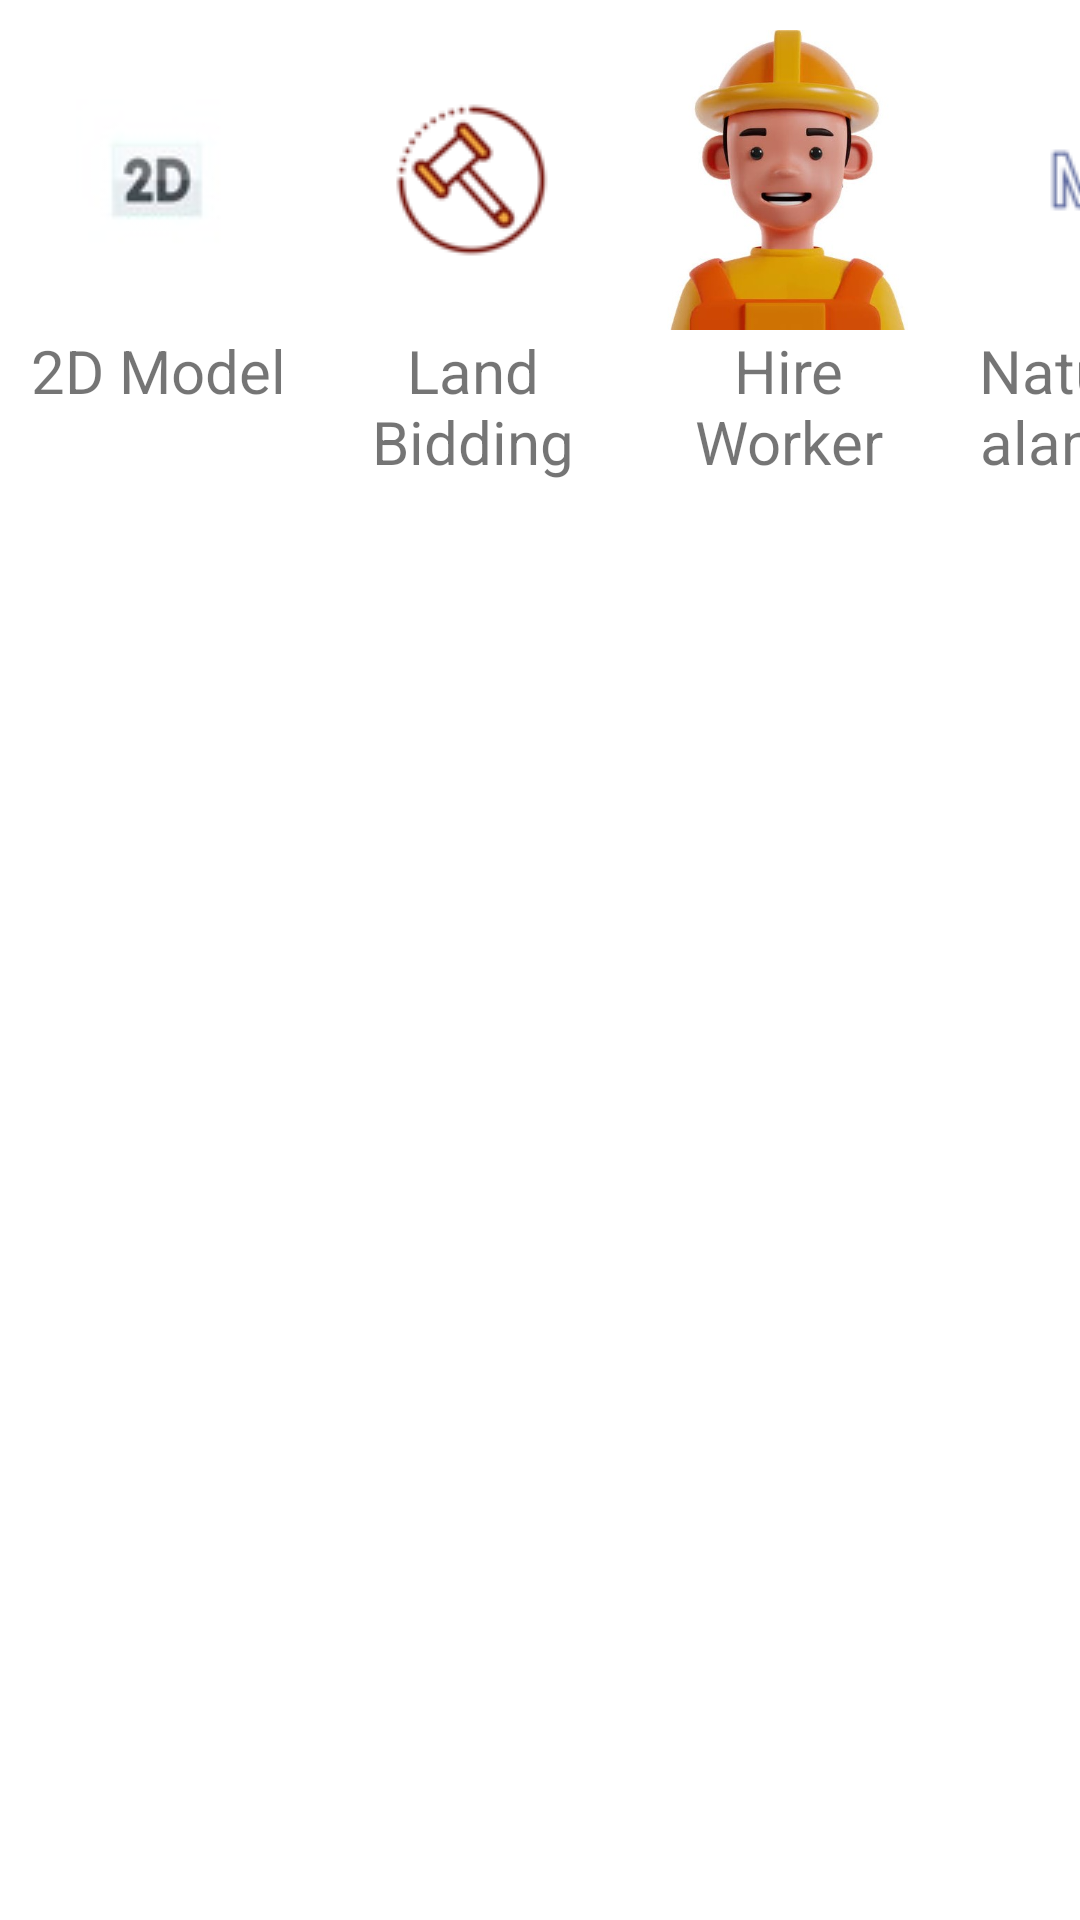

Icon click points for this 1080w x 1920h phone screenshot, format (x,y):
bid: (471,180)
